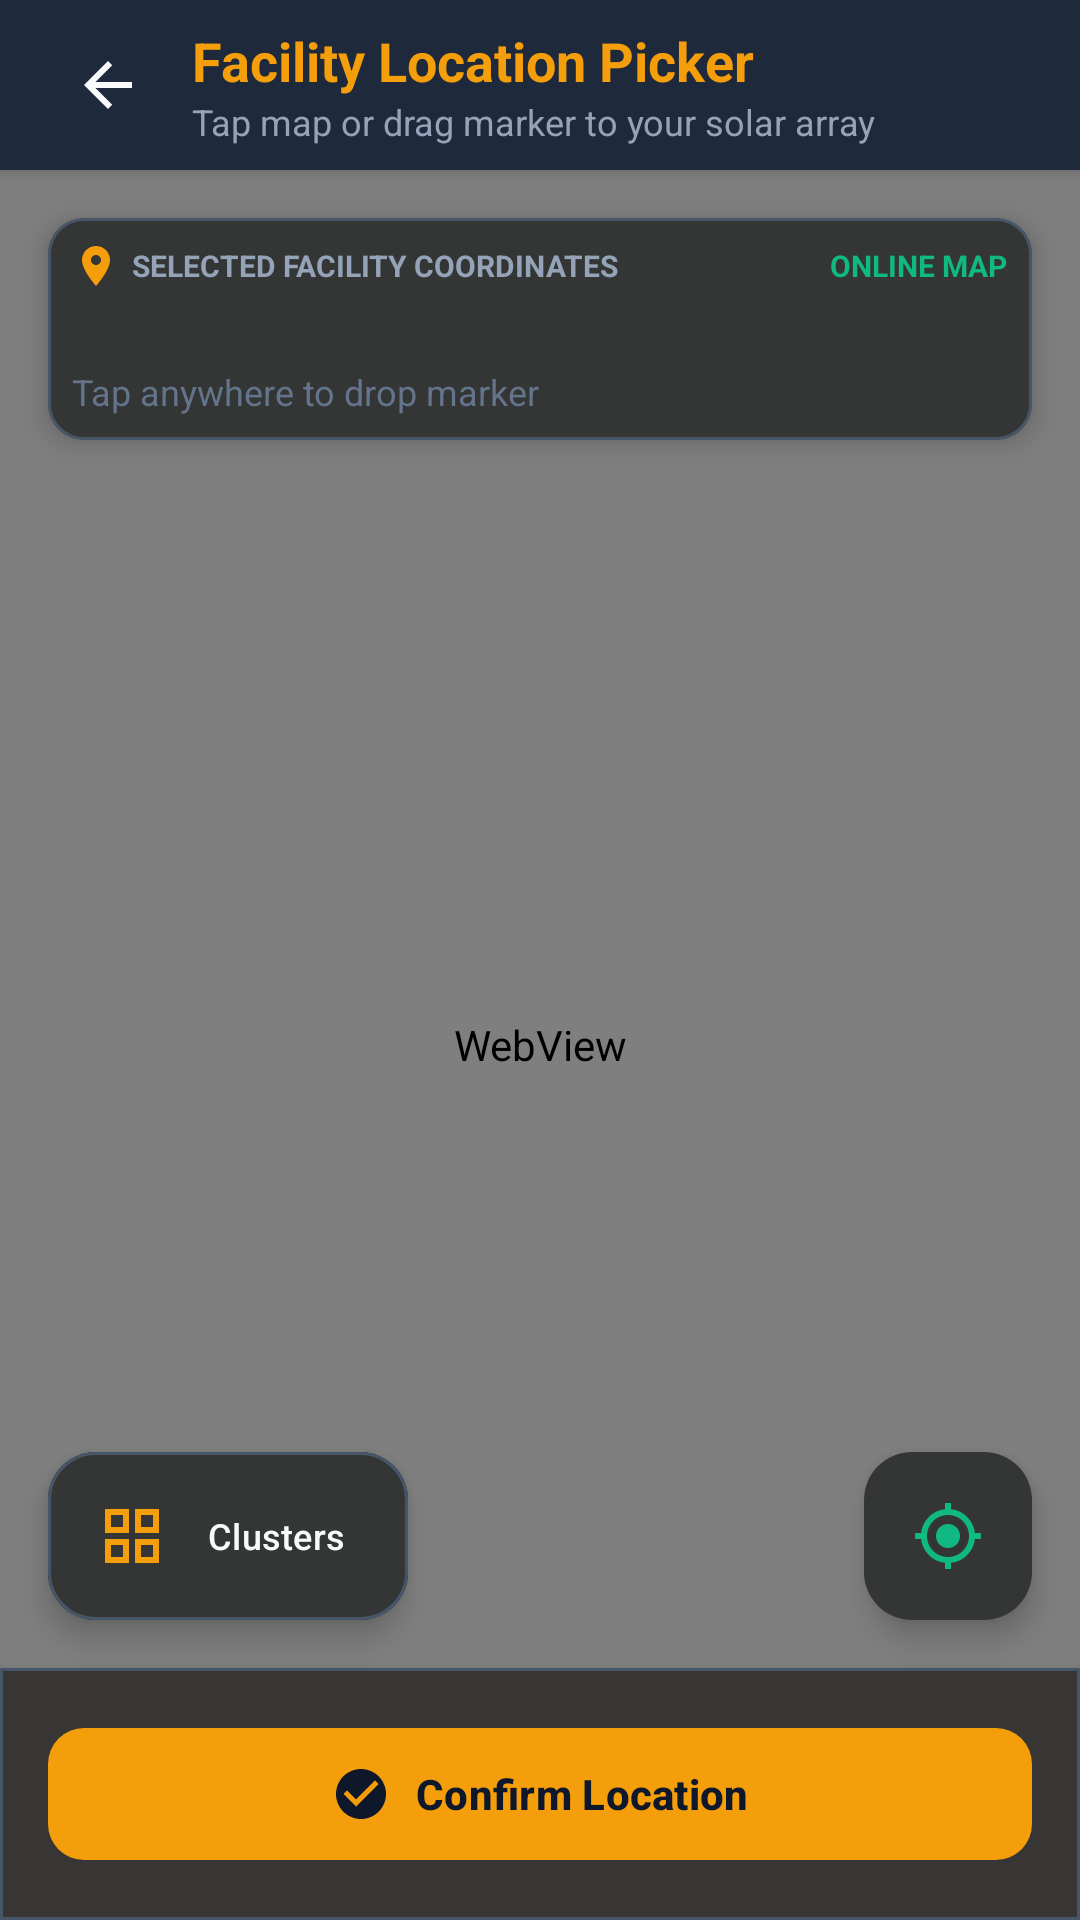

Icon click points for this 1080 × 1920 phone screenshot, format (x,y):
Cancel: (108,85)
Find Me (GPS): (948,1536)
Solar Facility Location: (96,266)
